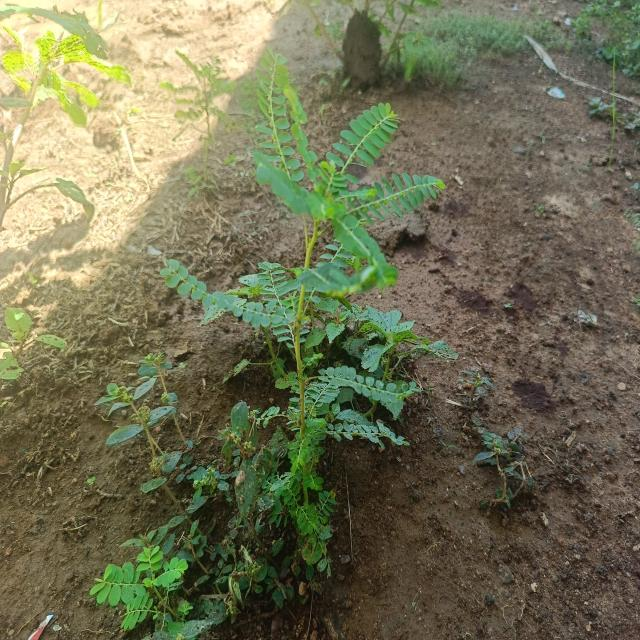weed: (93, 63, 458, 640), (465, 424, 540, 515)
